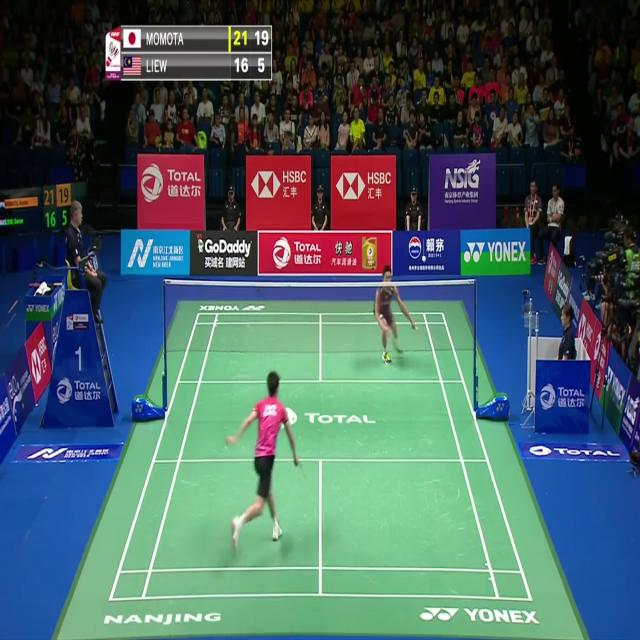Shuttlecock: (420, 252, 427, 264)
